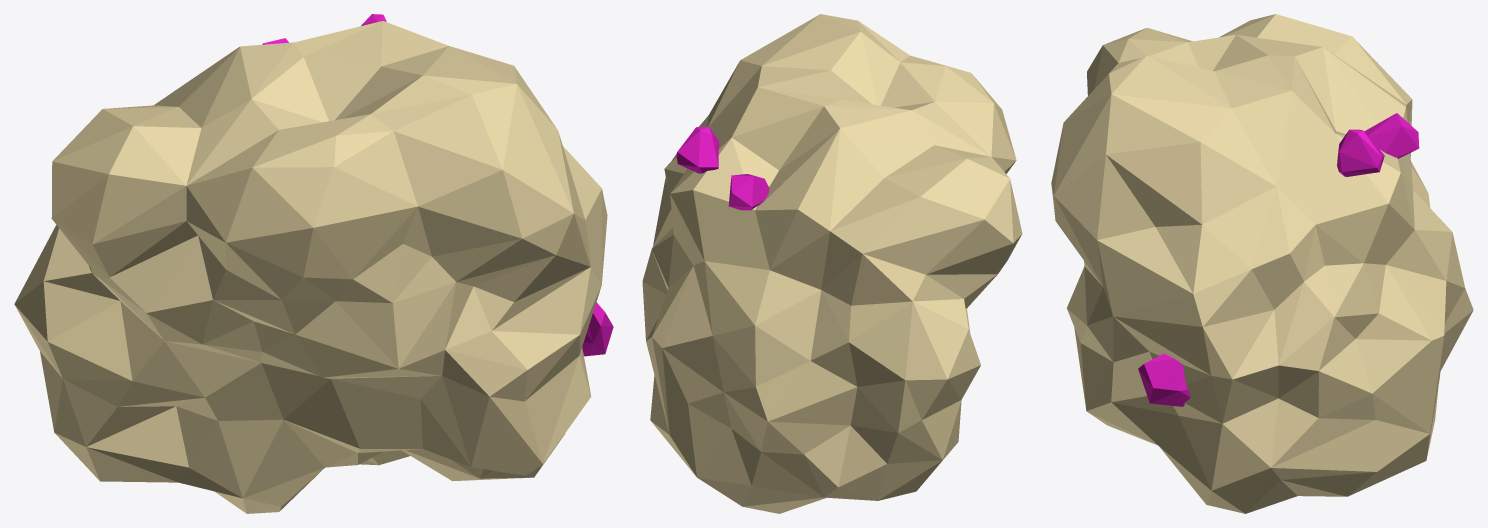
File: CrystalOre (22).fbx
3 views of the same model, side by side, from view 1: azimuth 30°, elevation 25°; view 2: azimuth 150°, elevation 25°; view 3: azimuth 270°, elevation 25° (orthographic). The views are drawn at different scales.
Visible parts, largest first — view 1: Asteroid242; view 2: Asteroid242; view 3: Asteroid242.
Boxes of the visible parts, bbox=[...] form: Asteroid242: bbox=[14, 14, 613, 513]; Asteroid242: bbox=[642, 14, 1022, 513]; Asteroid242: bbox=[1051, 14, 1473, 513].
Size of the model in its own units: 378 by 369 by 328.
